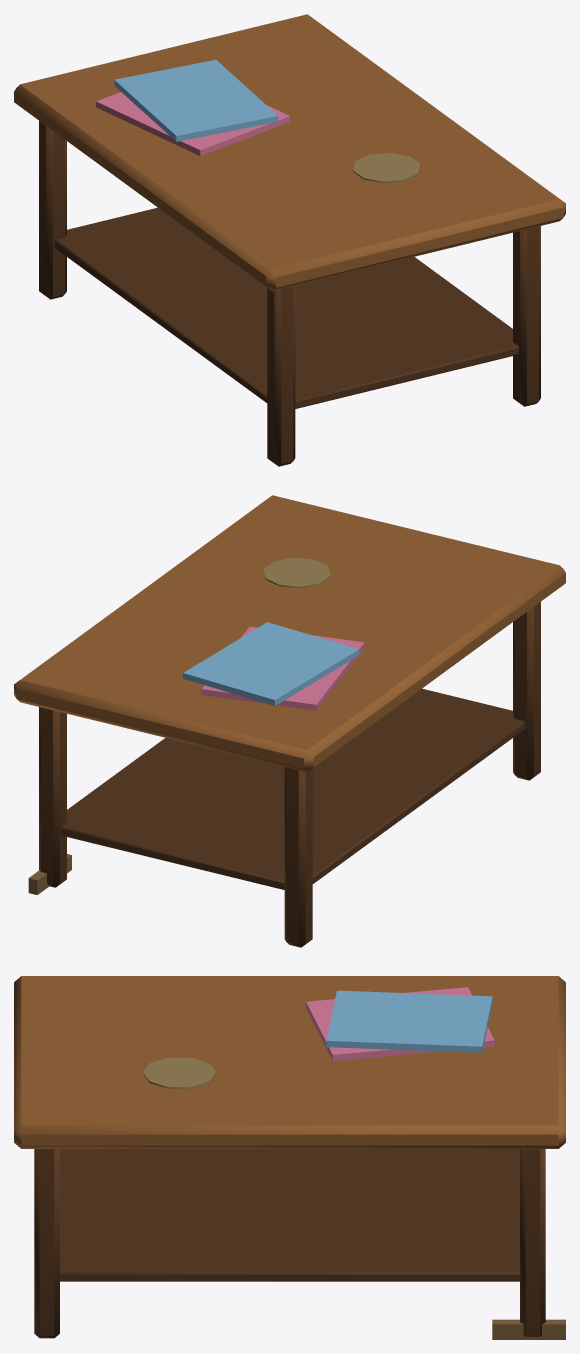
Rendered from 77_table_basse.fbx.
3 views of the same model, one above another, from view 1: azimuth 30°, elevation 25°; view 2: azimuth 150°, elevation 25°; view 3: azimuth 270°, elevation 25° (orthographic). The views are drawn at different scales.
Parts seen in each view (by area): view 1: Table; view 2: Table; view 3: Table.
Part boxes in pixels (x1=…): Table: x1=14, y1=14, x2=565, y2=466; Table: x1=14, y1=495, x2=565, y2=947; Table: x1=14, y1=976, x2=565, y2=1339.
Size of the model in its own units: 0.56 by 0.392 by 0.84.
Materials: 1 (1 with a texture image).
